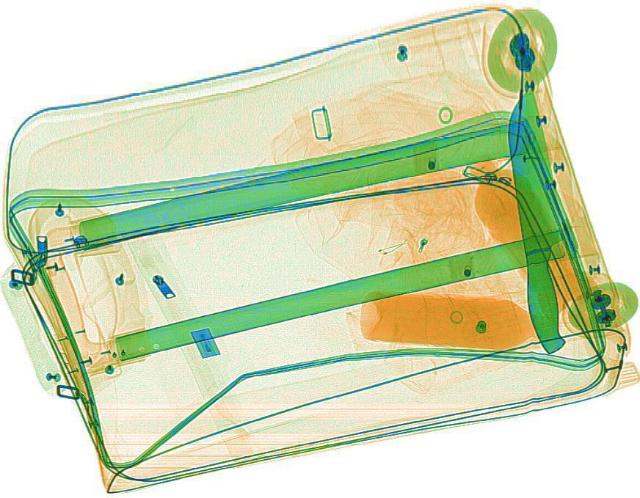Knife: (499, 87, 576, 353)
